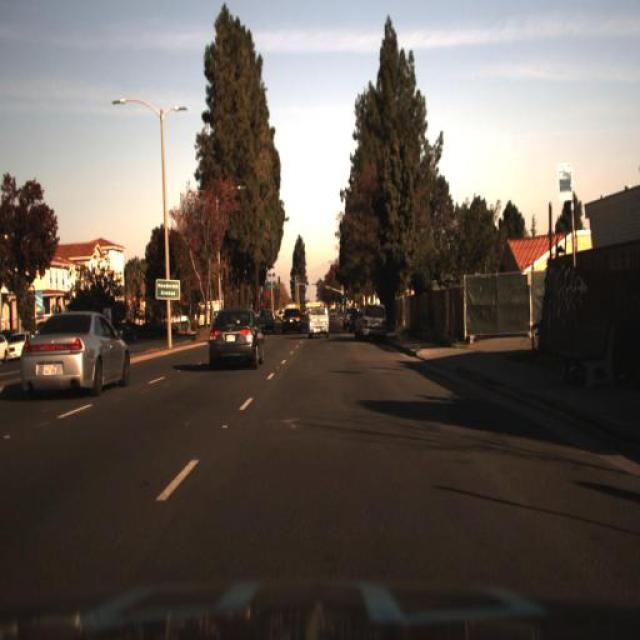car: (19, 310, 133, 401), (203, 306, 264, 375), (354, 297, 388, 343), (304, 304, 330, 342), (278, 304, 304, 340), (258, 307, 280, 338)
